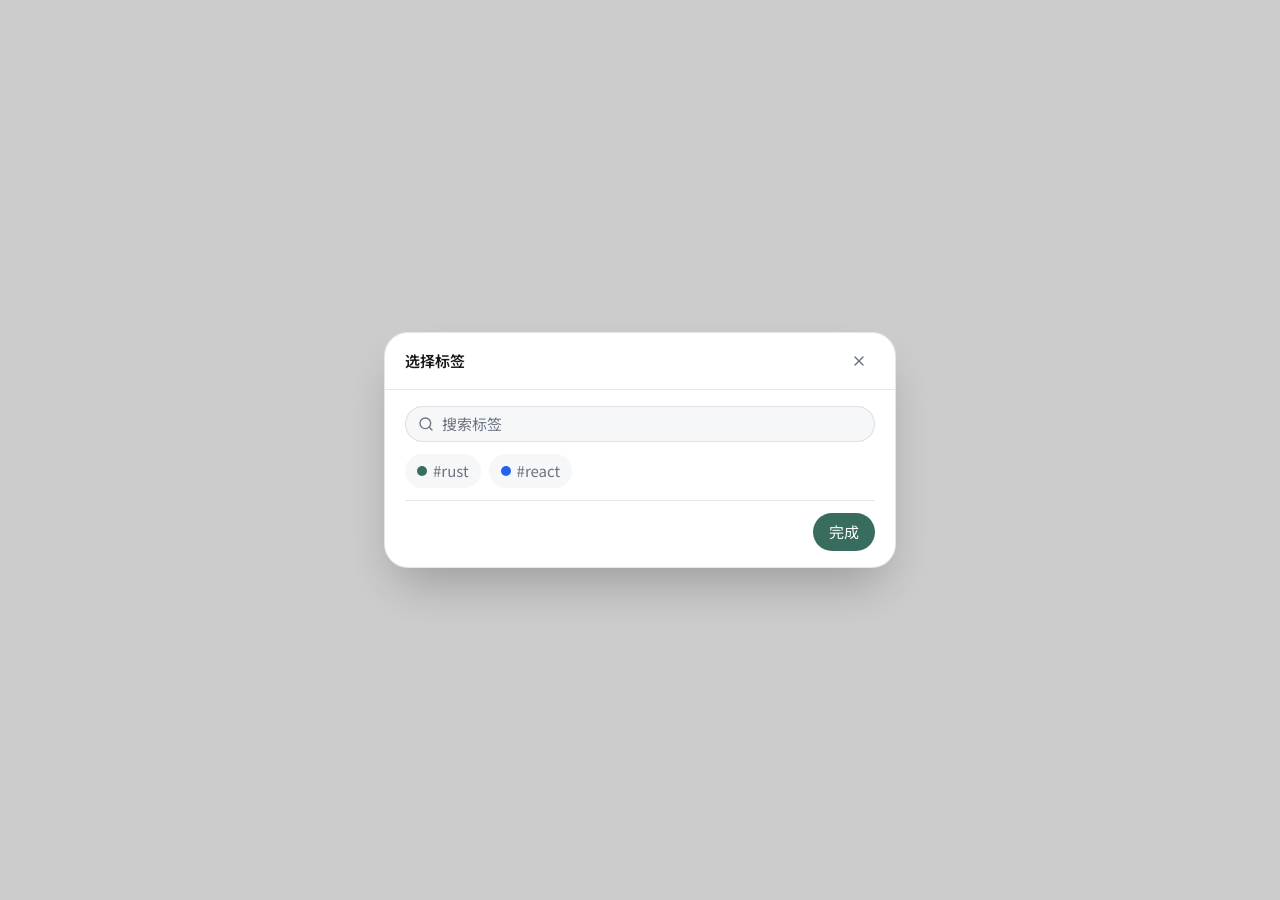
Test case: TagPickerModal › filters tags by search
Type "rust" into the field with placeholder "搜索标签" at (652, 424), box [442,413,862,435]
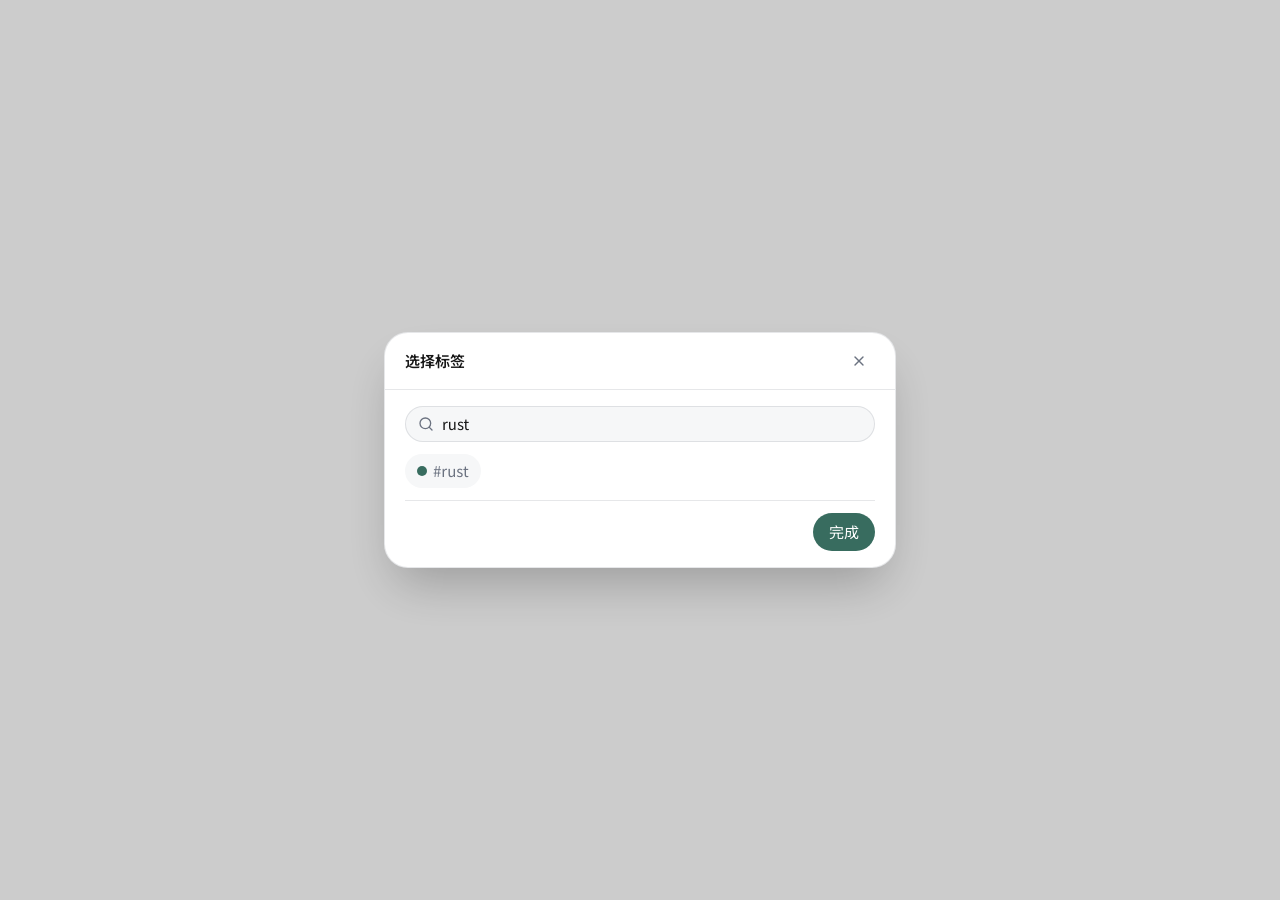
Expected: the button "#rust" is shown, [405,454,481,488]
Result: the button "#react" is gone
